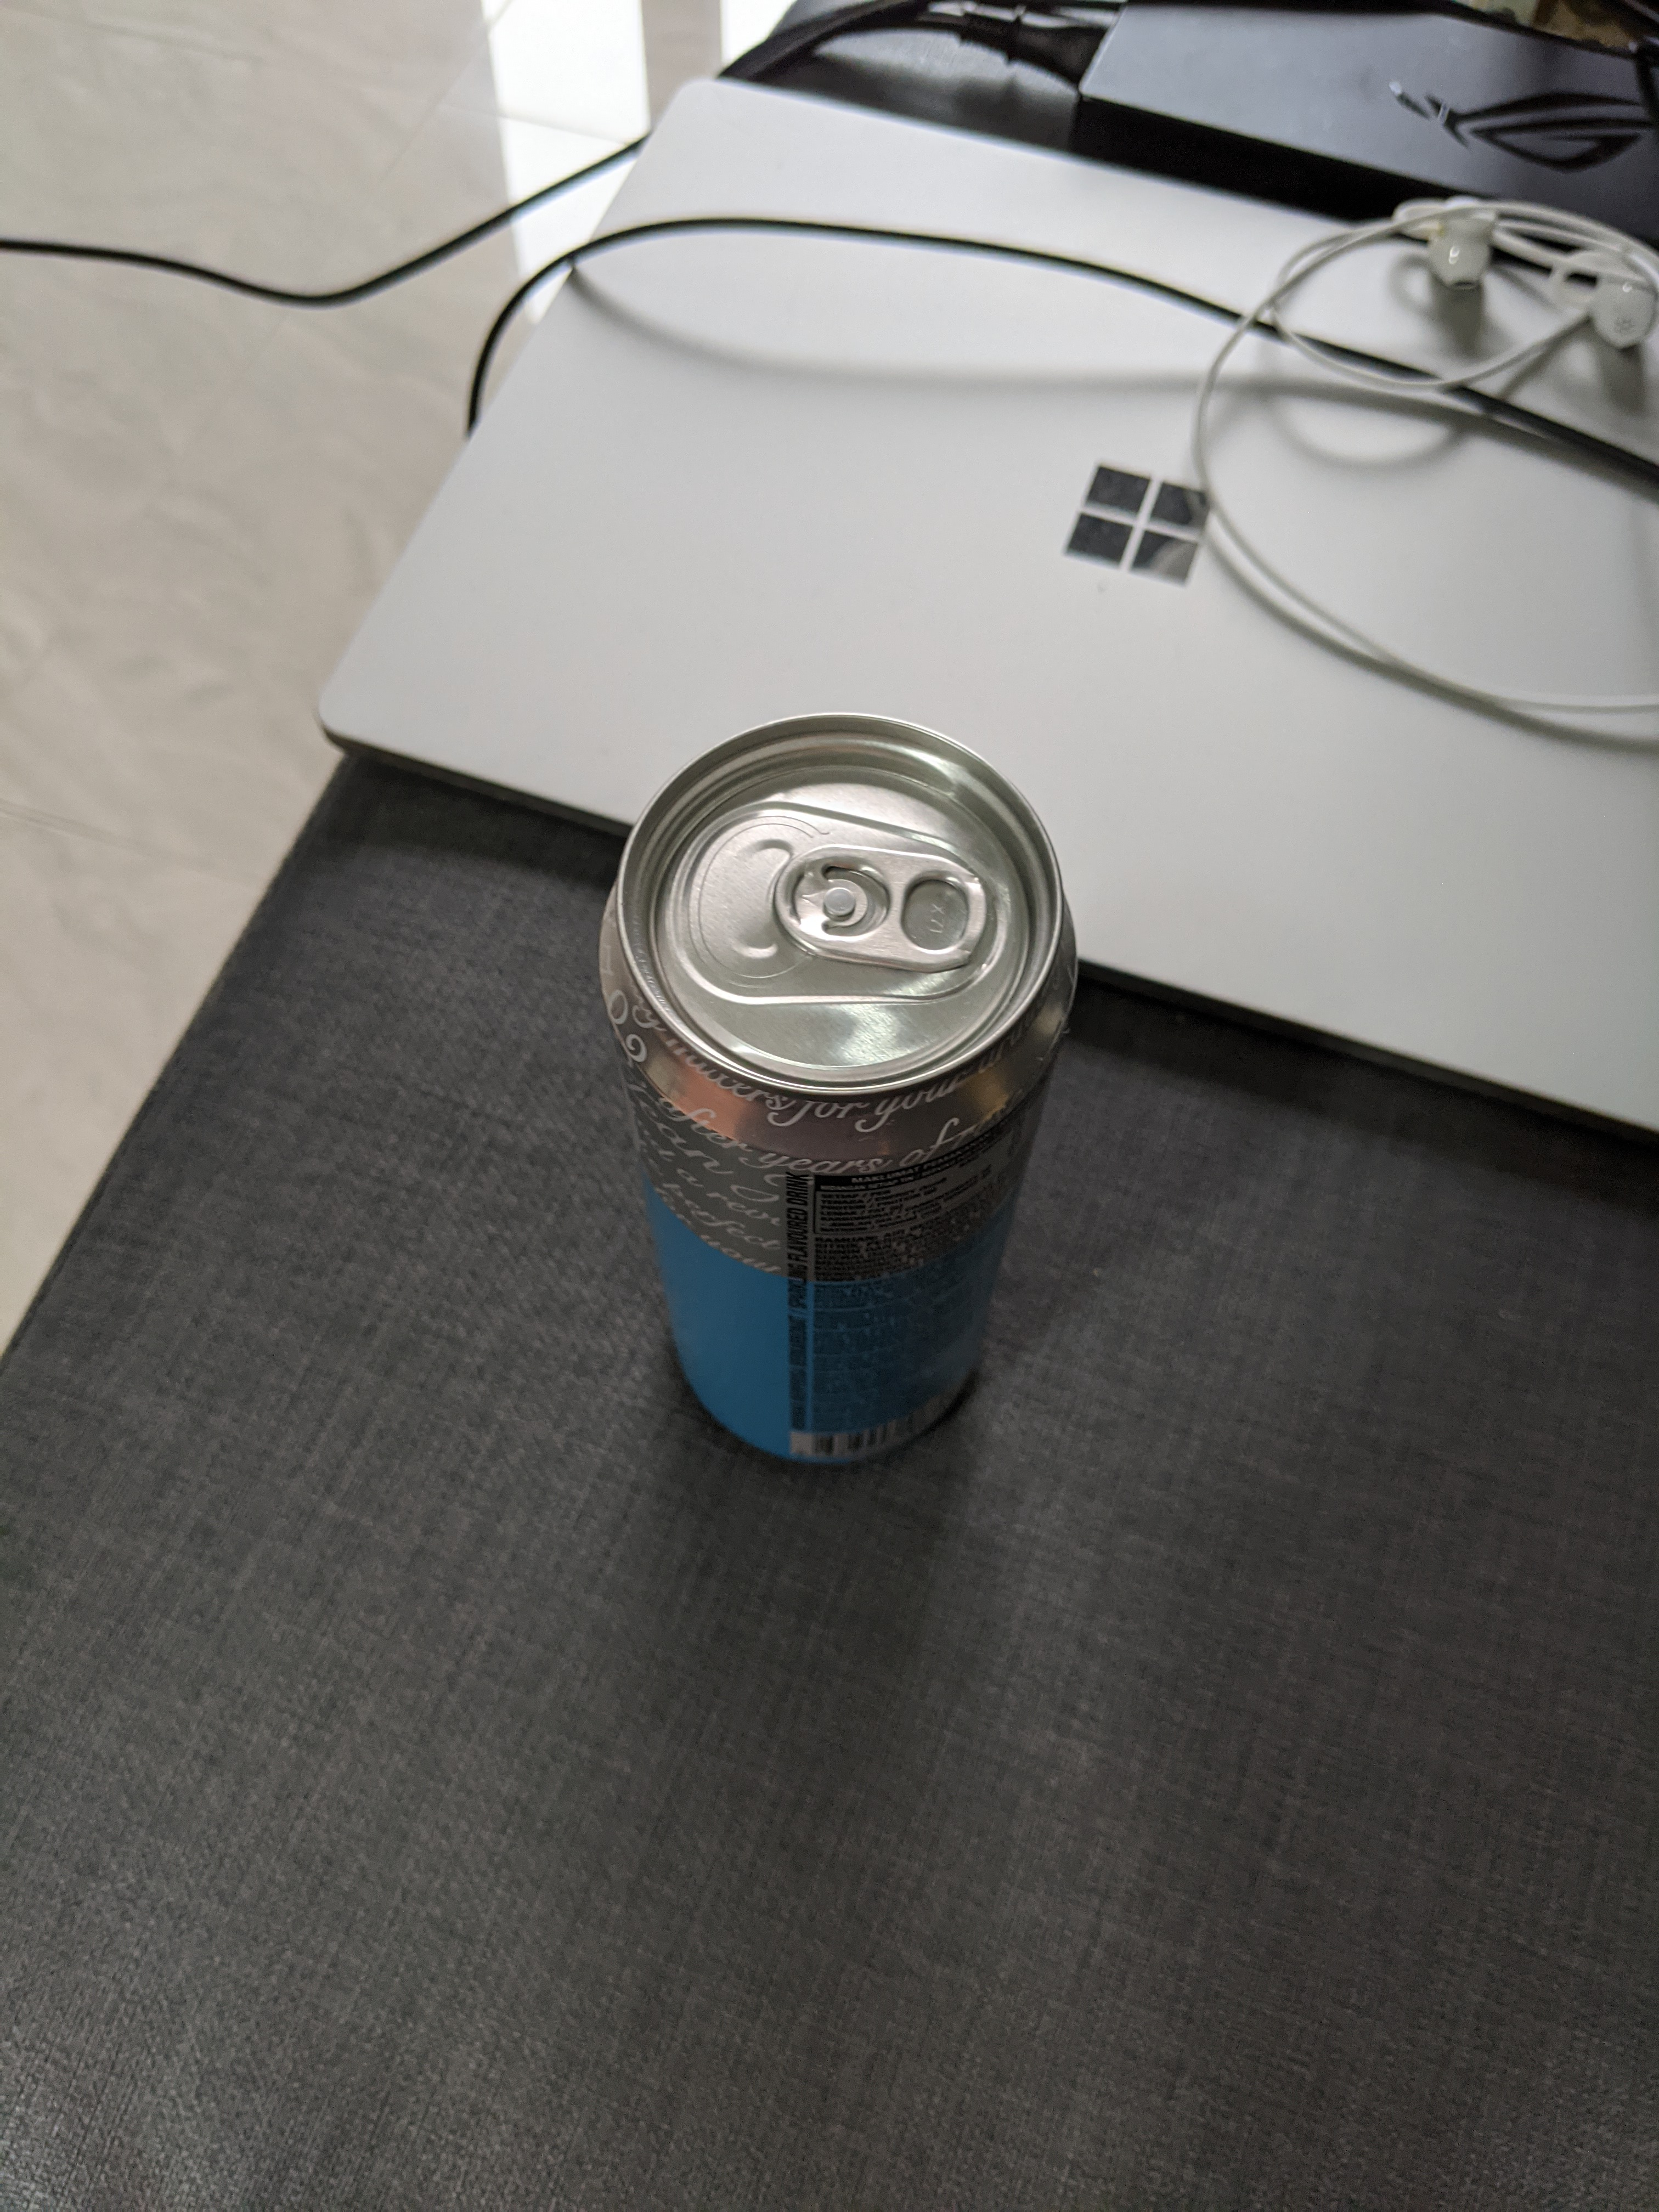schweppes drink can bitter lemon: (575, 679, 1107, 1521)
